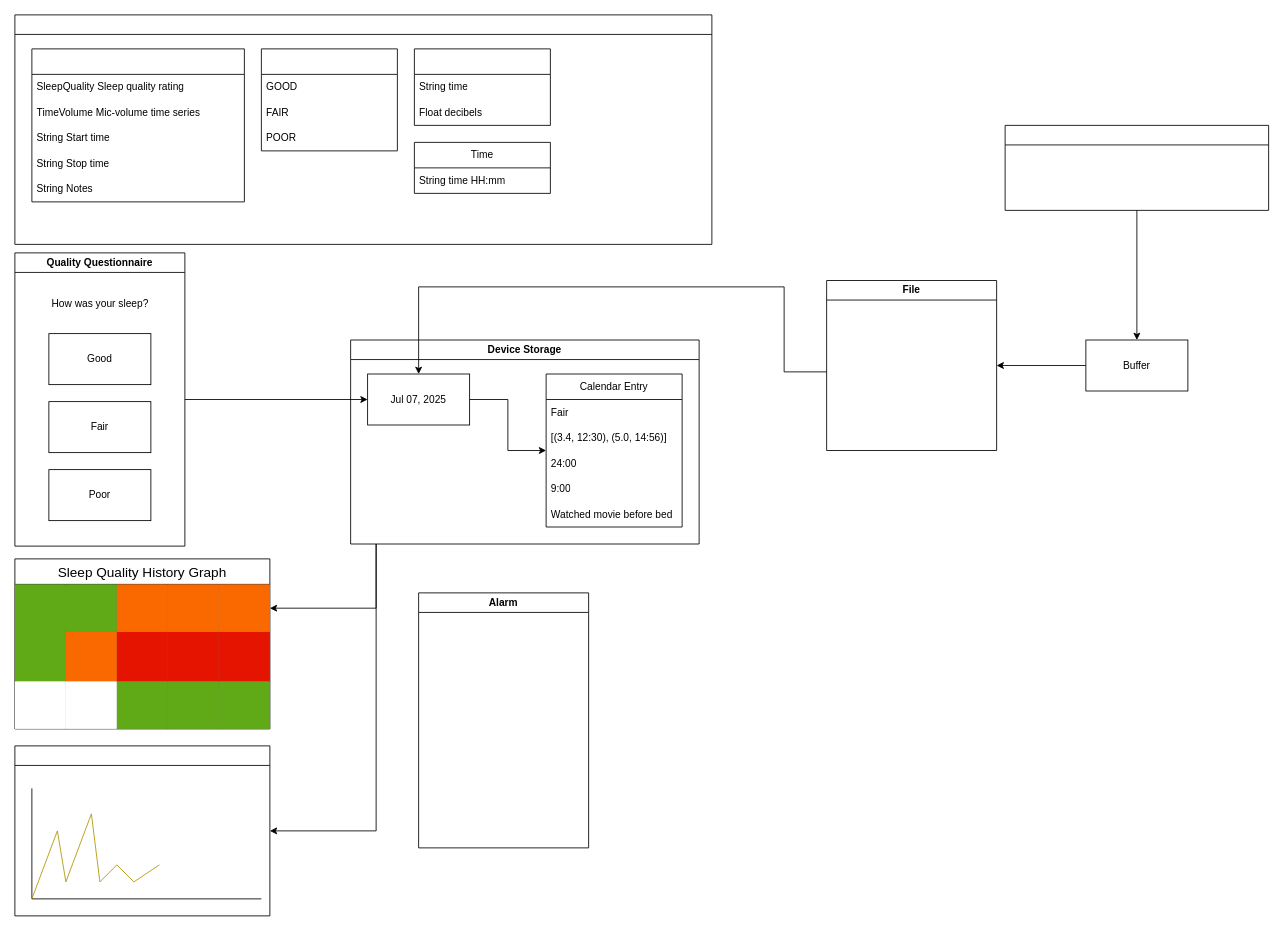
Image size: 1284x931. Some labels were removed from this diagram. Here are the shapes that lost their labels. From the top down, the box of each, then its label:
(261, 48, 397, 151): SleepQuality Enum
(414, 48, 550, 125): TimeVolume struct
(31, 48, 244, 202): CalendarEntry Struct
(14, 14, 712, 244): Types
(1004, 125, 1269, 210): Mic Tracker
(14, 745, 270, 916): Mic Volume Graph
